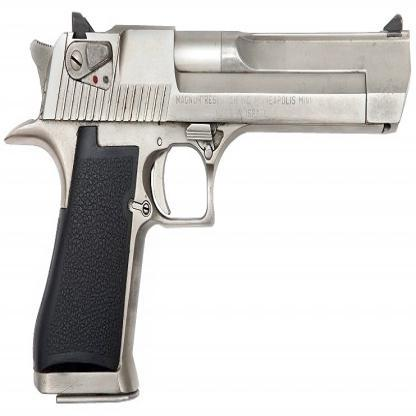Pistol: (2, 8, 410, 406)
